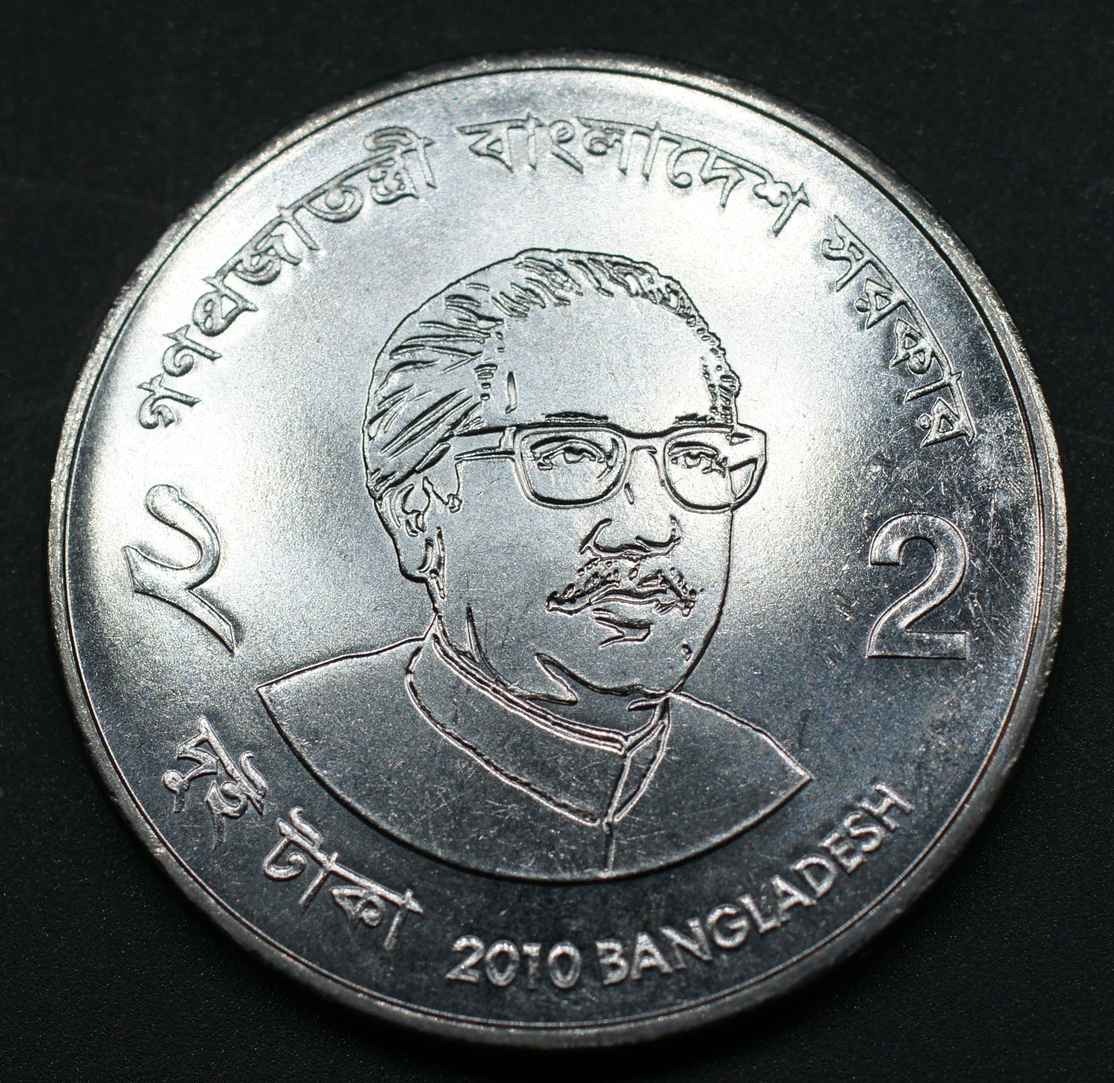5 taka coin: (51, 46, 1076, 1049)
